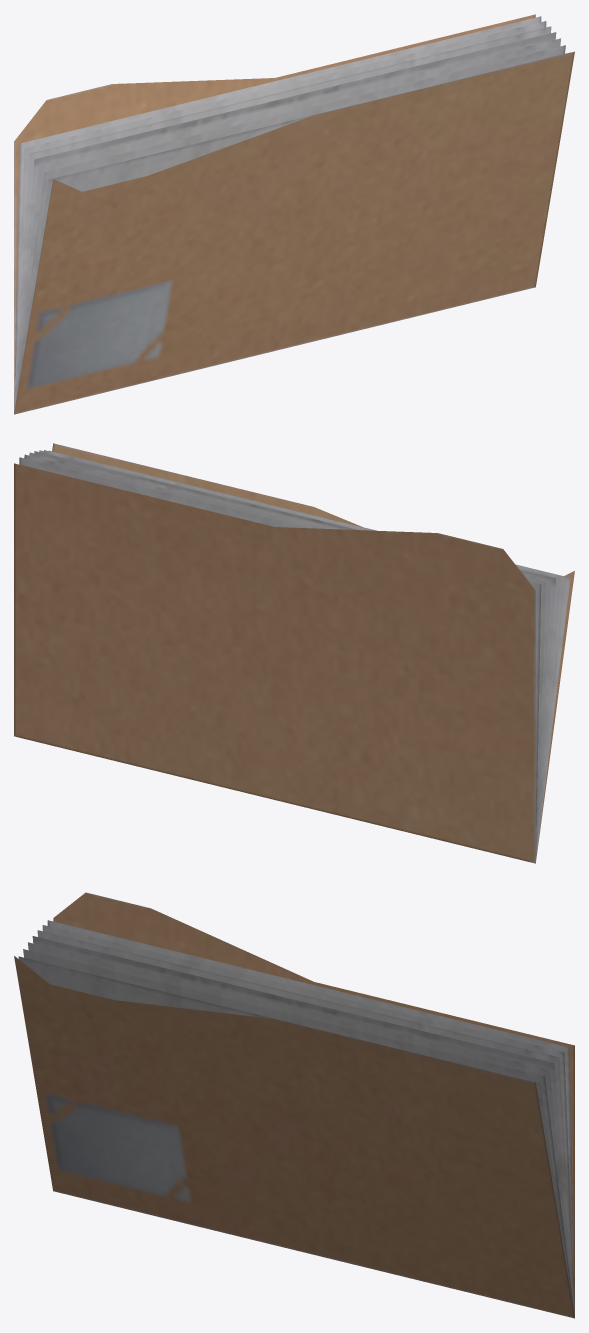
Rendered from Protocol.fbx.
3 views of the same model, one above another, from view 1: azimuth 30°, elevation 25°; view 2: azimuth 150°, elevation 25°; view 3: azimuth 330°, elevation 25° (orthographic).
Visible parts, largest first — view 1: Plane; view 2: Plane; view 3: Plane.
Boxes of the visible parts, bbox=[...] form: Plane: bbox=[14, 14, 574, 414]; Plane: bbox=[14, 443, 574, 863]; Plane: bbox=[14, 892, 574, 1318].
Size of the model in its own units: 40 by 22.47 by 5.2.
